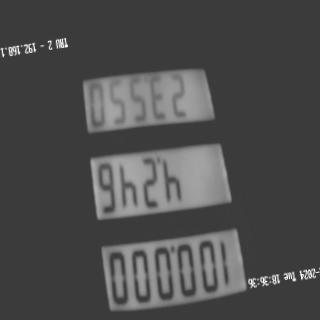screen: (59, 23, 253, 320)
